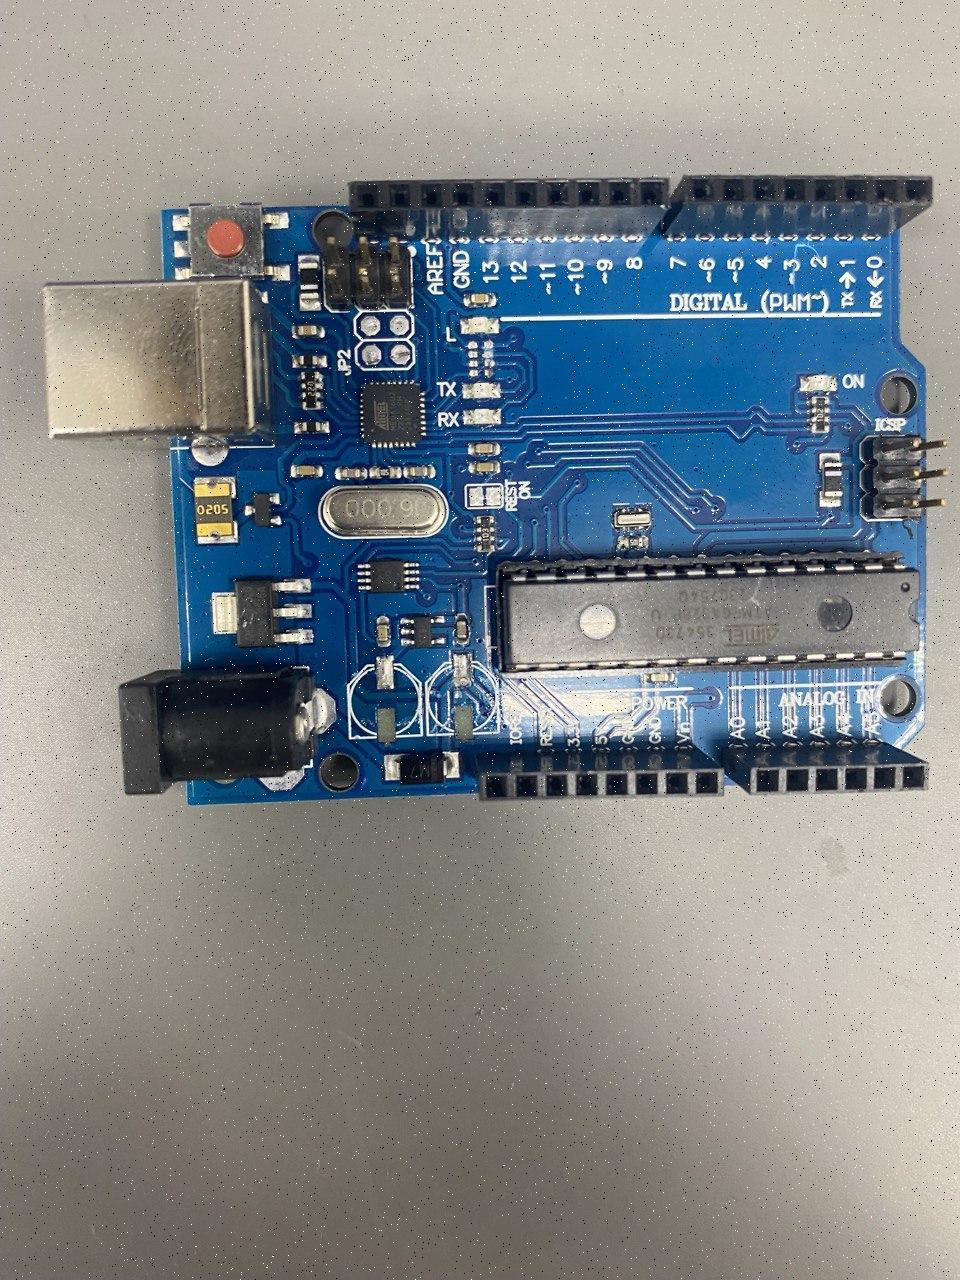ATmega328 chip: (496, 551, 920, 680)
Arduino board: (40, 175, 949, 806)
USB: (41, 278, 275, 452)
pins: (348, 177, 670, 243), (661, 174, 933, 238), (475, 745, 725, 803), (721, 741, 931, 796)
resistor: (472, 514, 497, 555), (300, 371, 324, 412), (809, 395, 830, 435)
